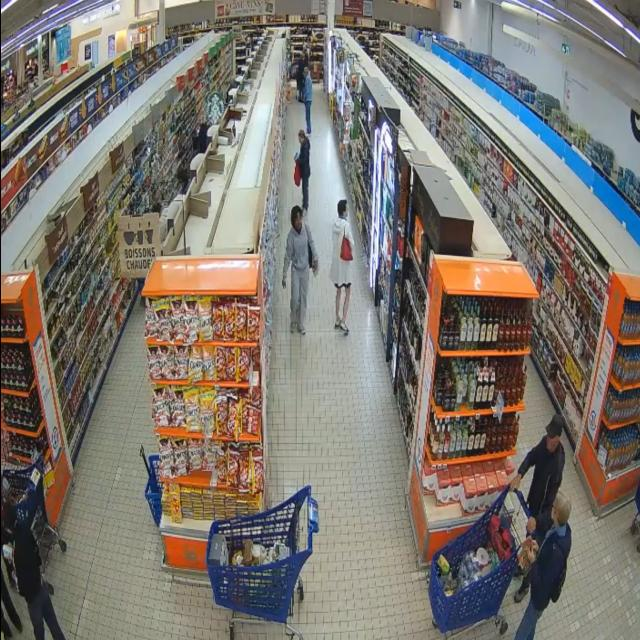article: (517, 537, 532, 578), (294, 152, 299, 159)
bags: (489, 515, 512, 561), (551, 549, 567, 603), (341, 234, 353, 261), (294, 160, 301, 186), (308, 241, 313, 268)
hands: (510, 474, 522, 490), (526, 517, 536, 534), (526, 548, 536, 564), (531, 539, 539, 554), (312, 259, 318, 273), (282, 278, 286, 289)
person: (515, 492, 571, 639), (5, 506, 65, 639), (511, 414, 565, 533), (282, 206, 318, 335), (330, 200, 354, 334), (0, 571, 22, 632), (296, 129, 311, 214), (304, 67, 312, 134)
